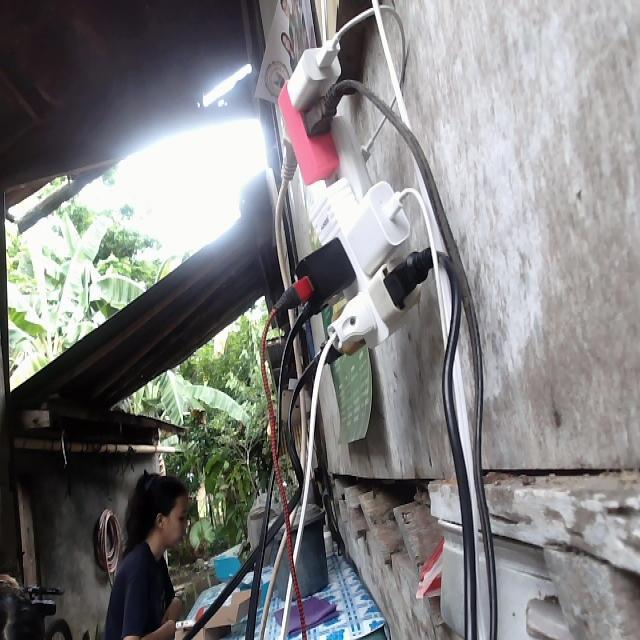-: (273, 25, 452, 363)
